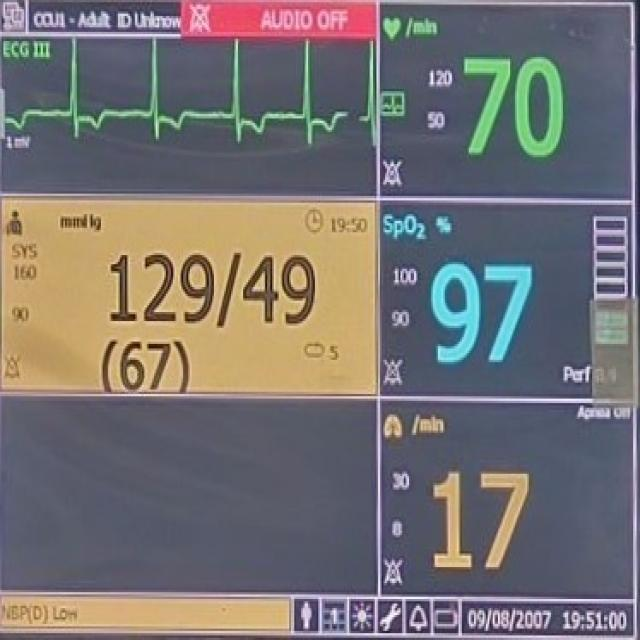frame: (426, 255, 536, 374), (426, 462, 536, 577), (458, 50, 566, 167), (105, 249, 215, 326), (244, 252, 318, 330), (116, 339, 173, 394), (560, 606, 630, 632), (327, 214, 371, 238), (422, 62, 454, 94), (8, 299, 36, 332), (421, 103, 447, 138), (516, 608, 552, 632), (387, 466, 413, 499), (389, 261, 419, 288), (388, 302, 412, 334), (13, 258, 36, 288), (466, 607, 486, 631), (326, 340, 342, 367), (390, 515, 405, 543), (491, 608, 509, 630)
